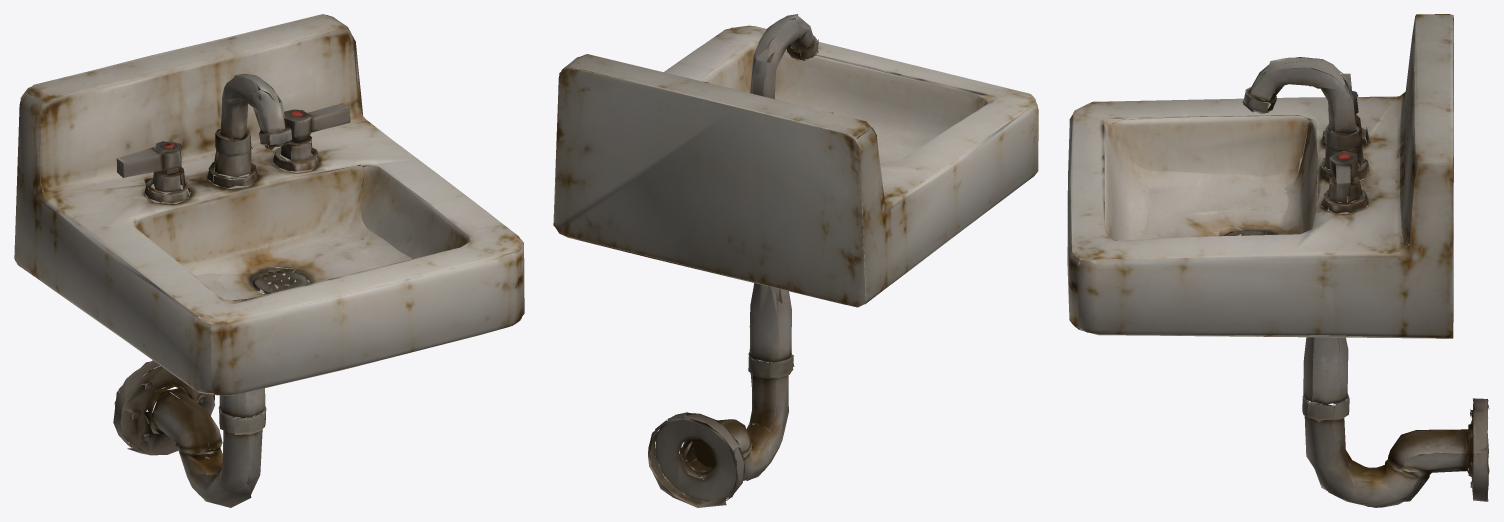
Rendered from sink.glb.
The picture shows the model from 3 angles, left to right: view 1: azimuth 30°, elevation 25°; view 2: azimuth 150°, elevation 25°; view 3: azimuth 270°, elevation 25°; orthographic projection. The views are drawn at different scales.
Parts seen in each view (by area): view 1: node_0; view 2: node_0; view 3: node_0.
Part boxes in pixels (x1,y1,x2,y2): node_0: (14, 14, 524, 507); node_0: (553, 14, 1038, 507); node_0: (1067, 14, 1489, 507).
Bounding box in the file's own units: 0.6964 × 0.9079 × 0.7761.
1 material, 1 textured.
